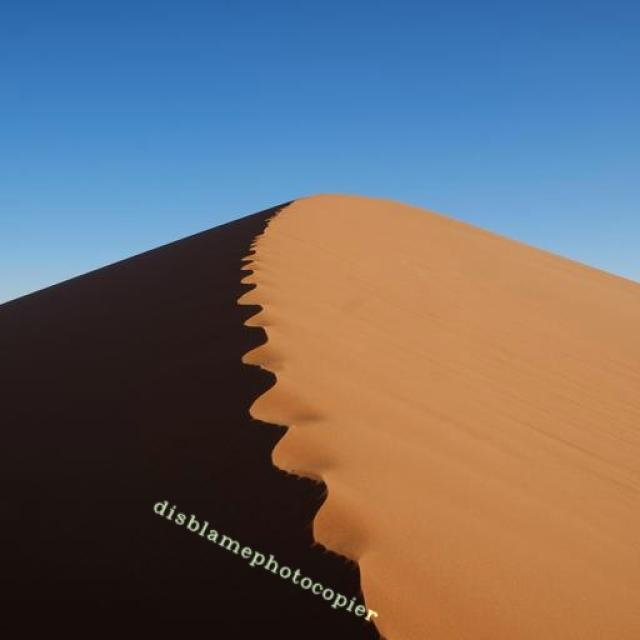watermark: (146, 494, 387, 626)
